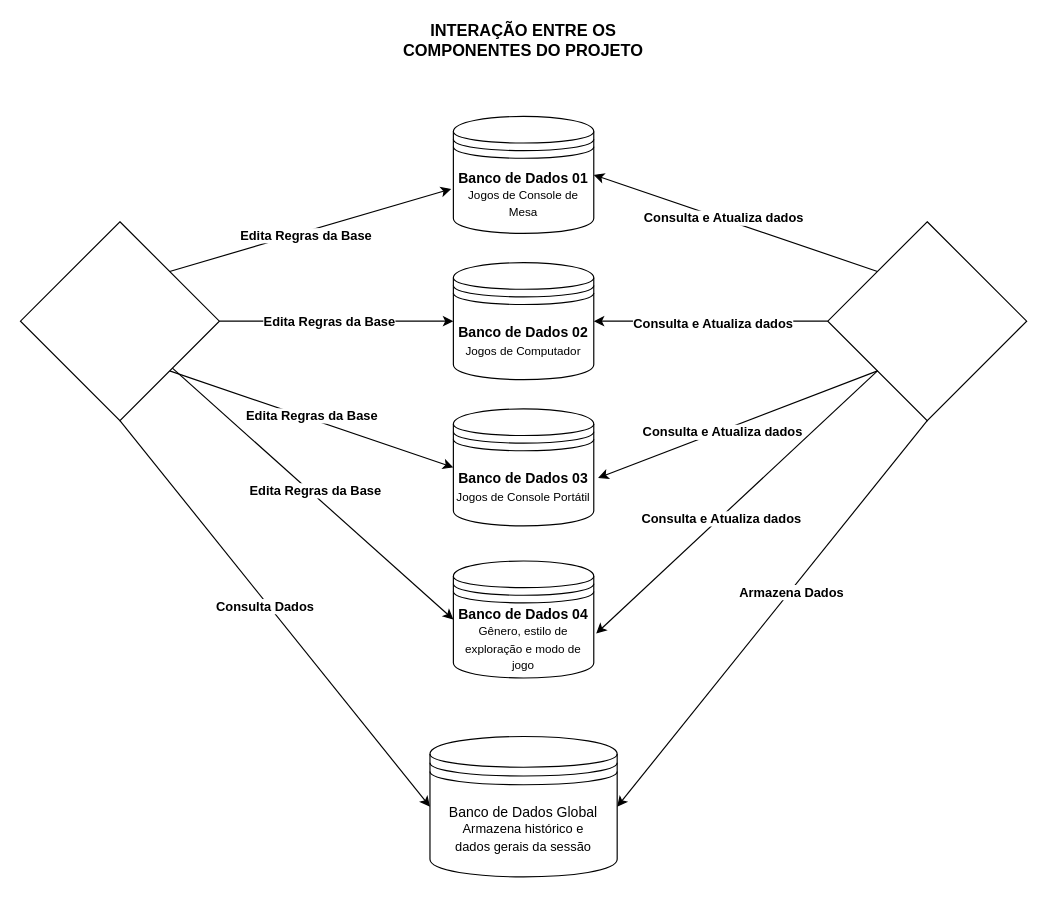
Some shapes in this 1047 by 897 pixel diagram are drawn without their labels. Here are the shapes that lost their labels. From the top down, the centre of each, then its label:
[119,321]: Editor de Bases Edita ou Cria bases de regras X,Y,Z
[927,321]: Máquina de Inferência Consulta Regras das Bases Infere Resultado da Regra
